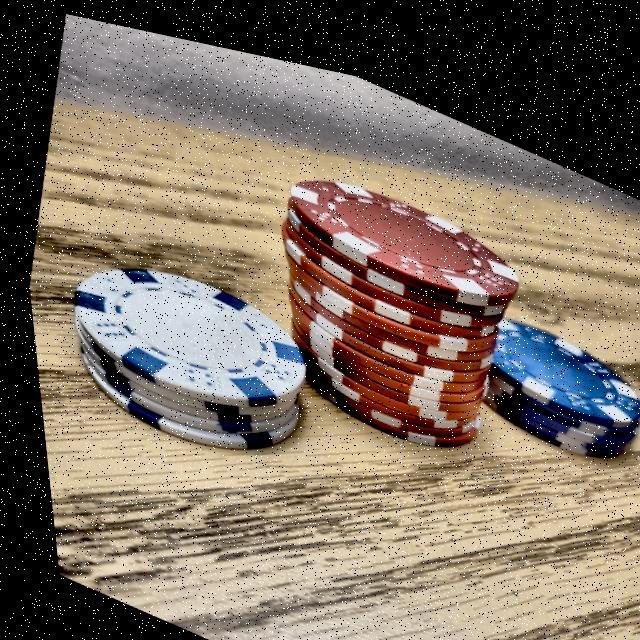Chip: (223, 103, 547, 476), (32, 183, 355, 521), (452, 261, 640, 475)
